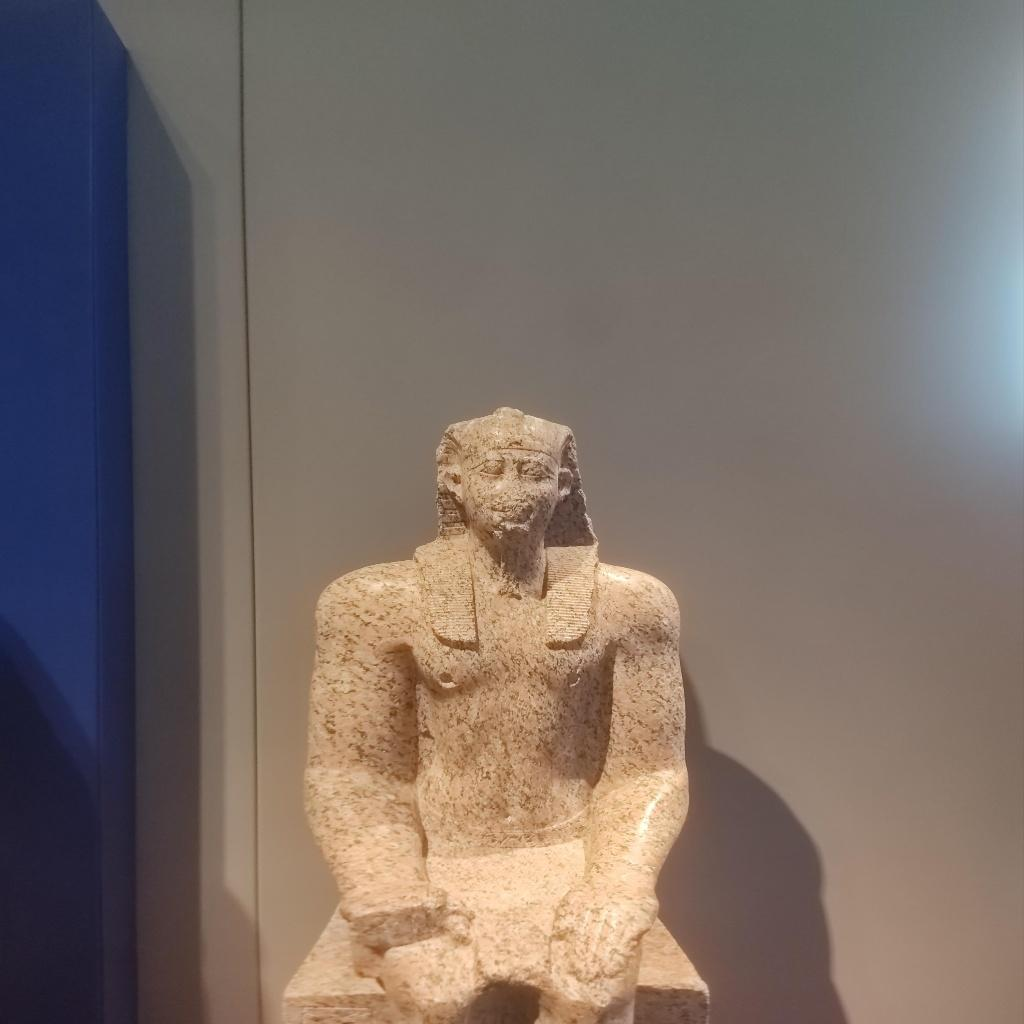Statue of Amenmhat I: (280, 403, 713, 1022)
